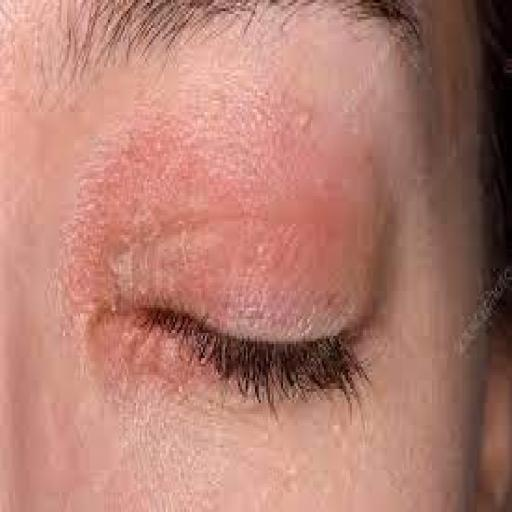Skin_Lesion: (105, 207, 159, 255), (83, 296, 117, 348), (294, 105, 319, 143), (97, 258, 130, 286), (235, 299, 263, 326)
